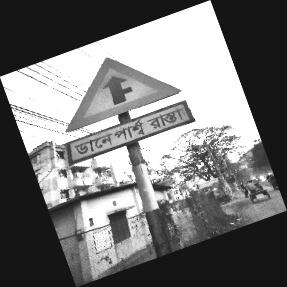Side-road-right: (65, 58, 193, 165)
